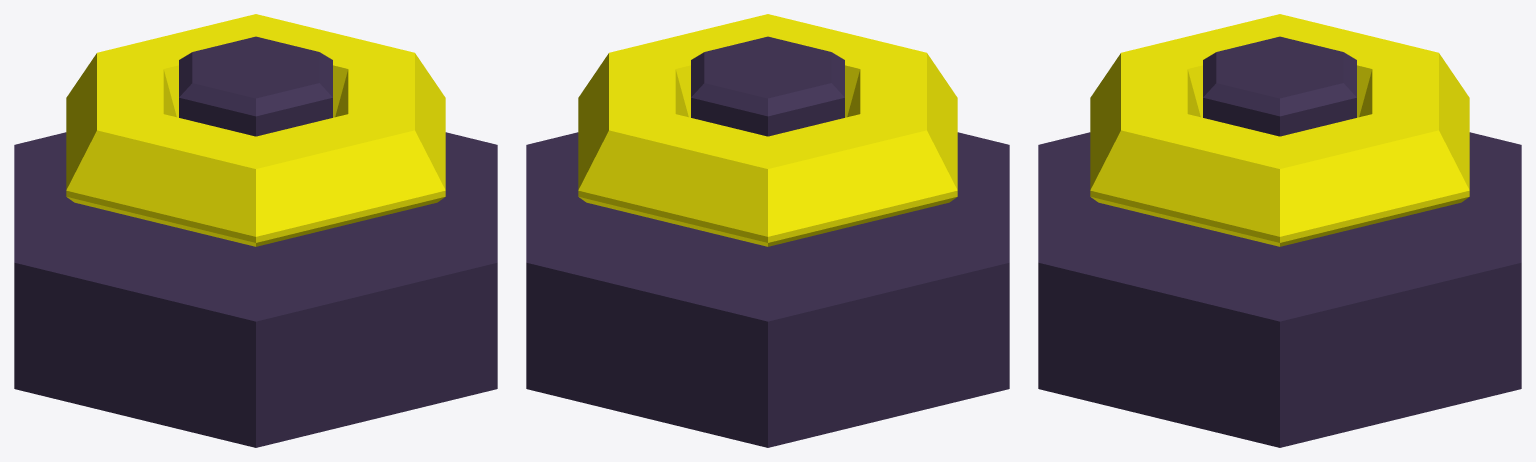
The model's file is hex_bumper.glb.
3 renders of one model, left to right at view 1: azimuth 30°, elevation 25°; view 2: azimuth 150°, elevation 25°; view 3: azimuth 270°, elevation 25°, orthographic.
Visible parts, largest first — view 1: tile, yellowbouncer, purpleinnerpole; view 2: tile, yellowbouncer, purpleinnerpole; view 3: tile, yellowbouncer, purpleinnerpole.
Part boxes in pixels (left/top/right/bottom): tile: left=14, top=132, right=497, bottom=447; yellowbouncer: left=66, top=14, right=445, bottom=246; purpleinnerpole: left=179, top=36, right=332, bottom=136; tile: left=526, top=132, right=1009, bottom=447; yellowbouncer: left=578, top=14, right=957, bottom=246; purpleinnerpole: left=691, top=36, right=844, bottom=136; tile: left=1038, top=132, right=1521, bottom=447; yellowbouncer: left=1090, top=14, right=1469, bottom=246; purpleinnerpole: left=1203, top=36, right=1356, bottom=136.
Size of the model in its own units: 2 by 1.04 by 1.73.
